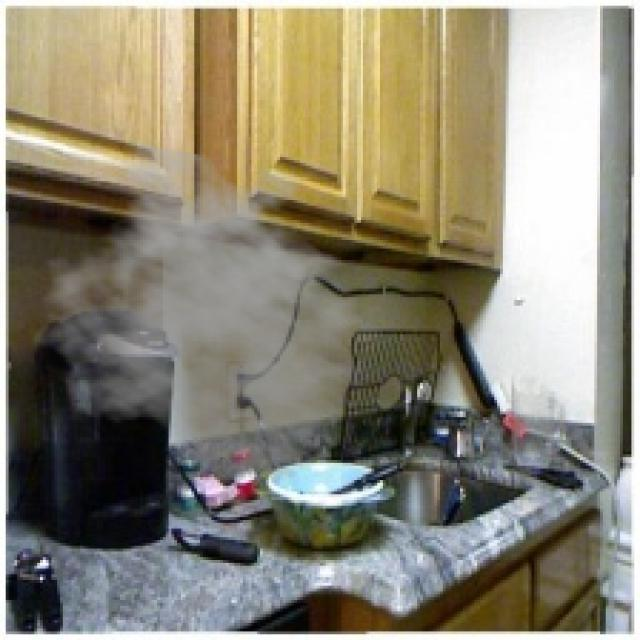Smoke: (26, 140, 400, 486)
